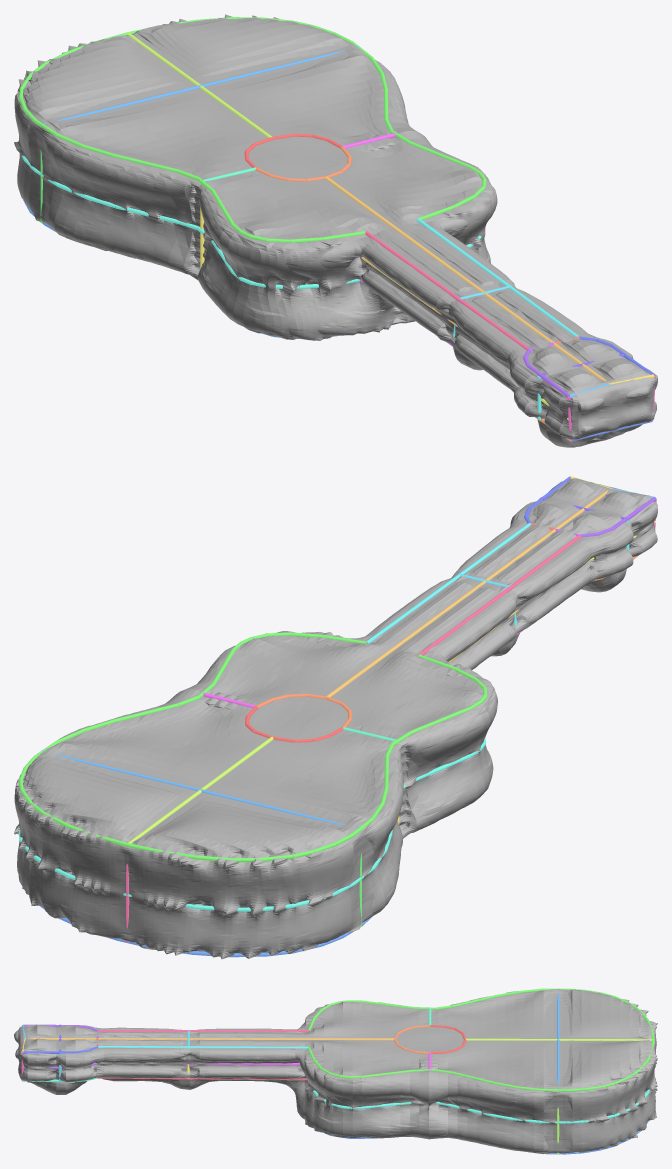
File: t2f_guitar.gltf
The picture shows the model from 3 angles, top to bottom: view 1: azimuth 30°, elevation 25°; view 2: azimuth 150°, elevation 25°; view 3: azimuth 270°, elevation 25°; orthographic projection. The views are drawn at different scales.
Size of the model in its own units: 0.3681 by 0.125 by 0.9495.
